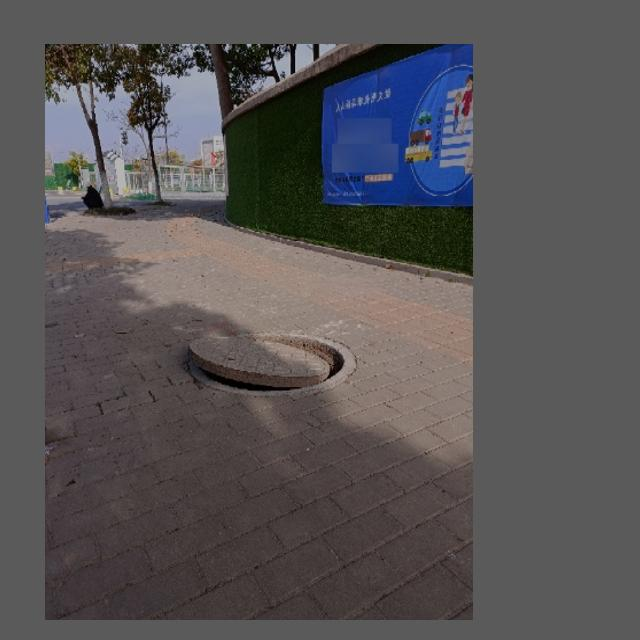uncovered: (187, 334, 358, 396)
